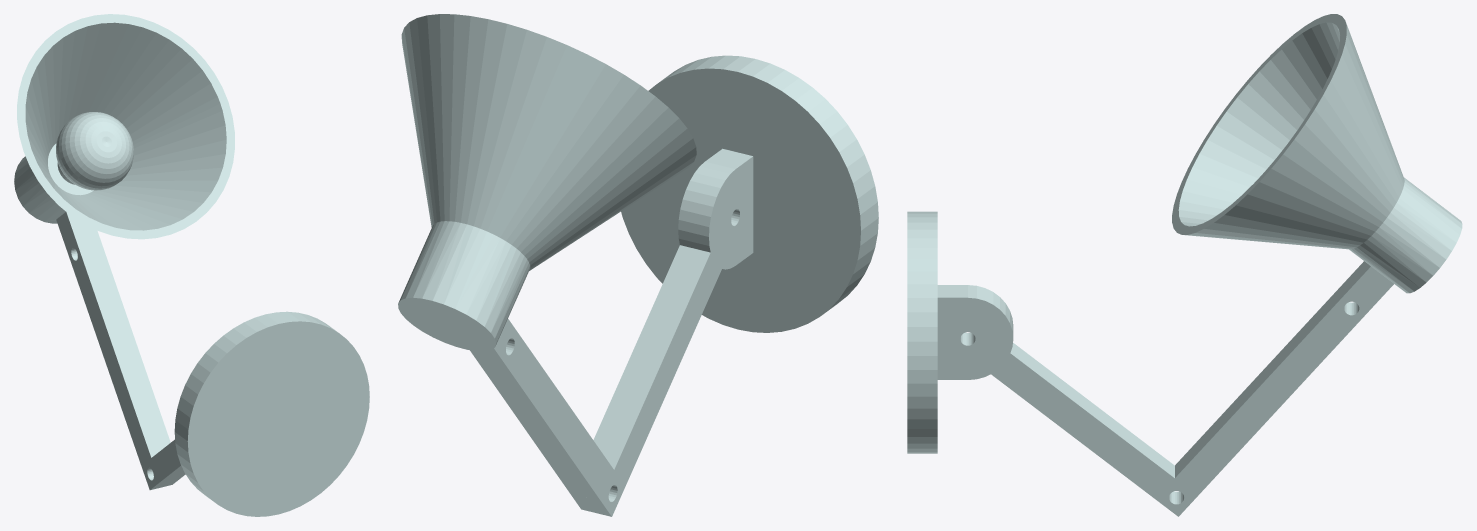
File: light.dae
3 renders of one model, left to right at view 1: azimuth 30°, elevation 25°; view 2: azimuth 150°, elevation 25°; view 3: azimuth 270°, elevation 25°, orthographic. The views are drawn at different scales.
Visible parts, largest first — view 1: ShapeIndexedFaceSet_001, ShapeIndexedFaceSet, ShapeIndexedFaceSet_002, ShapeIndexedFaceSet_003; view 2: ShapeIndexedFaceSet_001, ShapeIndexedFaceSet, ShapeIndexedFaceSet_003, ShapeIndexedFaceSet_002; view 3: ShapeIndexedFaceSet_001, ShapeIndexedFaceSet, ShapeIndexedFaceSet_002, ShapeIndexedFaceSet_003.
Boxes of the visible parts, bbox=[...] form: ShapeIndexedFaceSet_001: bbox=[14, 14, 234, 270]; ShapeIndexedFaceSet: bbox=[174, 311, 369, 516]; ShapeIndexedFaceSet_002: bbox=[65, 241, 170, 489]; ShapeIndexedFaceSet_003: bbox=[145, 439, 185, 490]; ShapeIndexedFaceSet_001: bbox=[398, 14, 696, 369]; ShapeIndexedFaceSet: bbox=[621, 55, 878, 332]; ShapeIndexedFaceSet_003: bbox=[570, 197, 747, 516]; ShapeIndexedFaceSet_002: bbox=[470, 324, 625, 516]; ShapeIndexedFaceSet_001: bbox=[1172, 14, 1462, 327]; ShapeIndexedFaceSet: bbox=[907, 211, 1013, 453]; ShapeIndexedFaceSet_002: bbox=[1156, 289, 1366, 516]; ShapeIndexedFaceSet_003: bbox=[951, 320, 1197, 515].
Bounding box in the file's own units: 0.135 × 0.275 × 0.2627.
